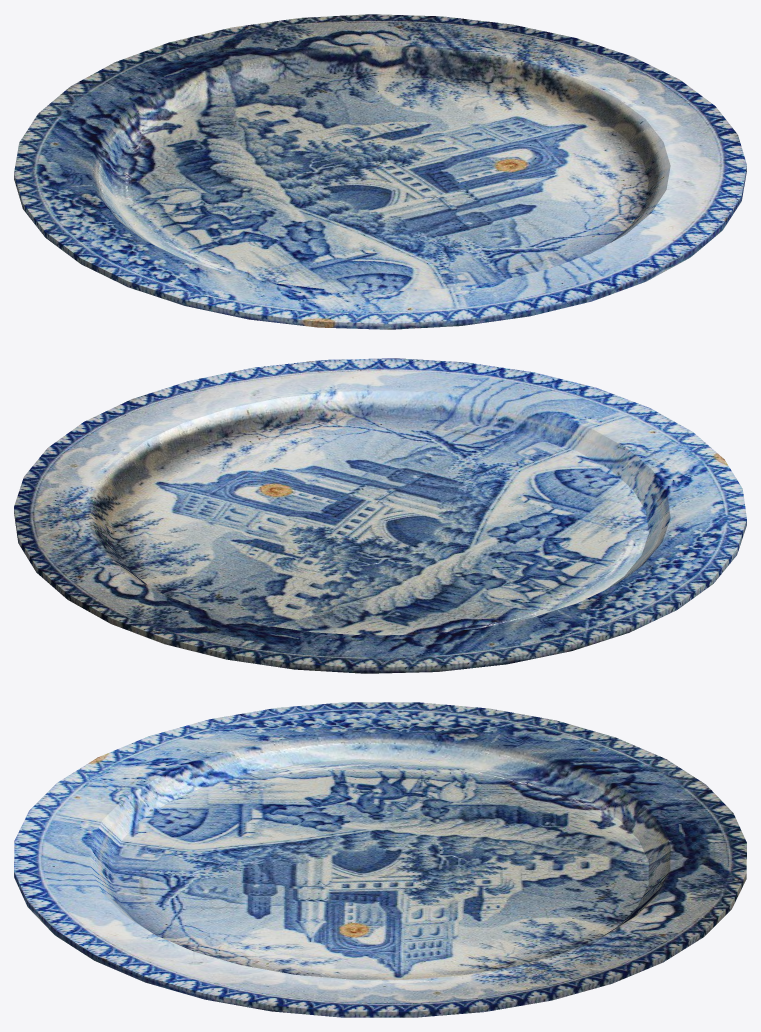
The model's file is блюдце.fbx.
The picture shows the model from 3 angles, top to bottom: view 1: azimuth 30°, elevation 25°; view 2: azimuth 150°, elevation 25°; view 3: azimuth 270°, elevation 25°; orthographic projection.
Parts seen in each view (by area): view 1: Cylinder; view 2: Cylinder; view 3: Cylinder.
Part boxes in pixels (x1,y1,x2,y2): Cylinder: (14, 14, 746, 329); Cylinder: (14, 358, 746, 673); Cylinder: (14, 702, 746, 1017).
Size of the model in its own units: 99.58 by 3.21 by 99.58.
1 material, 1 textured.
